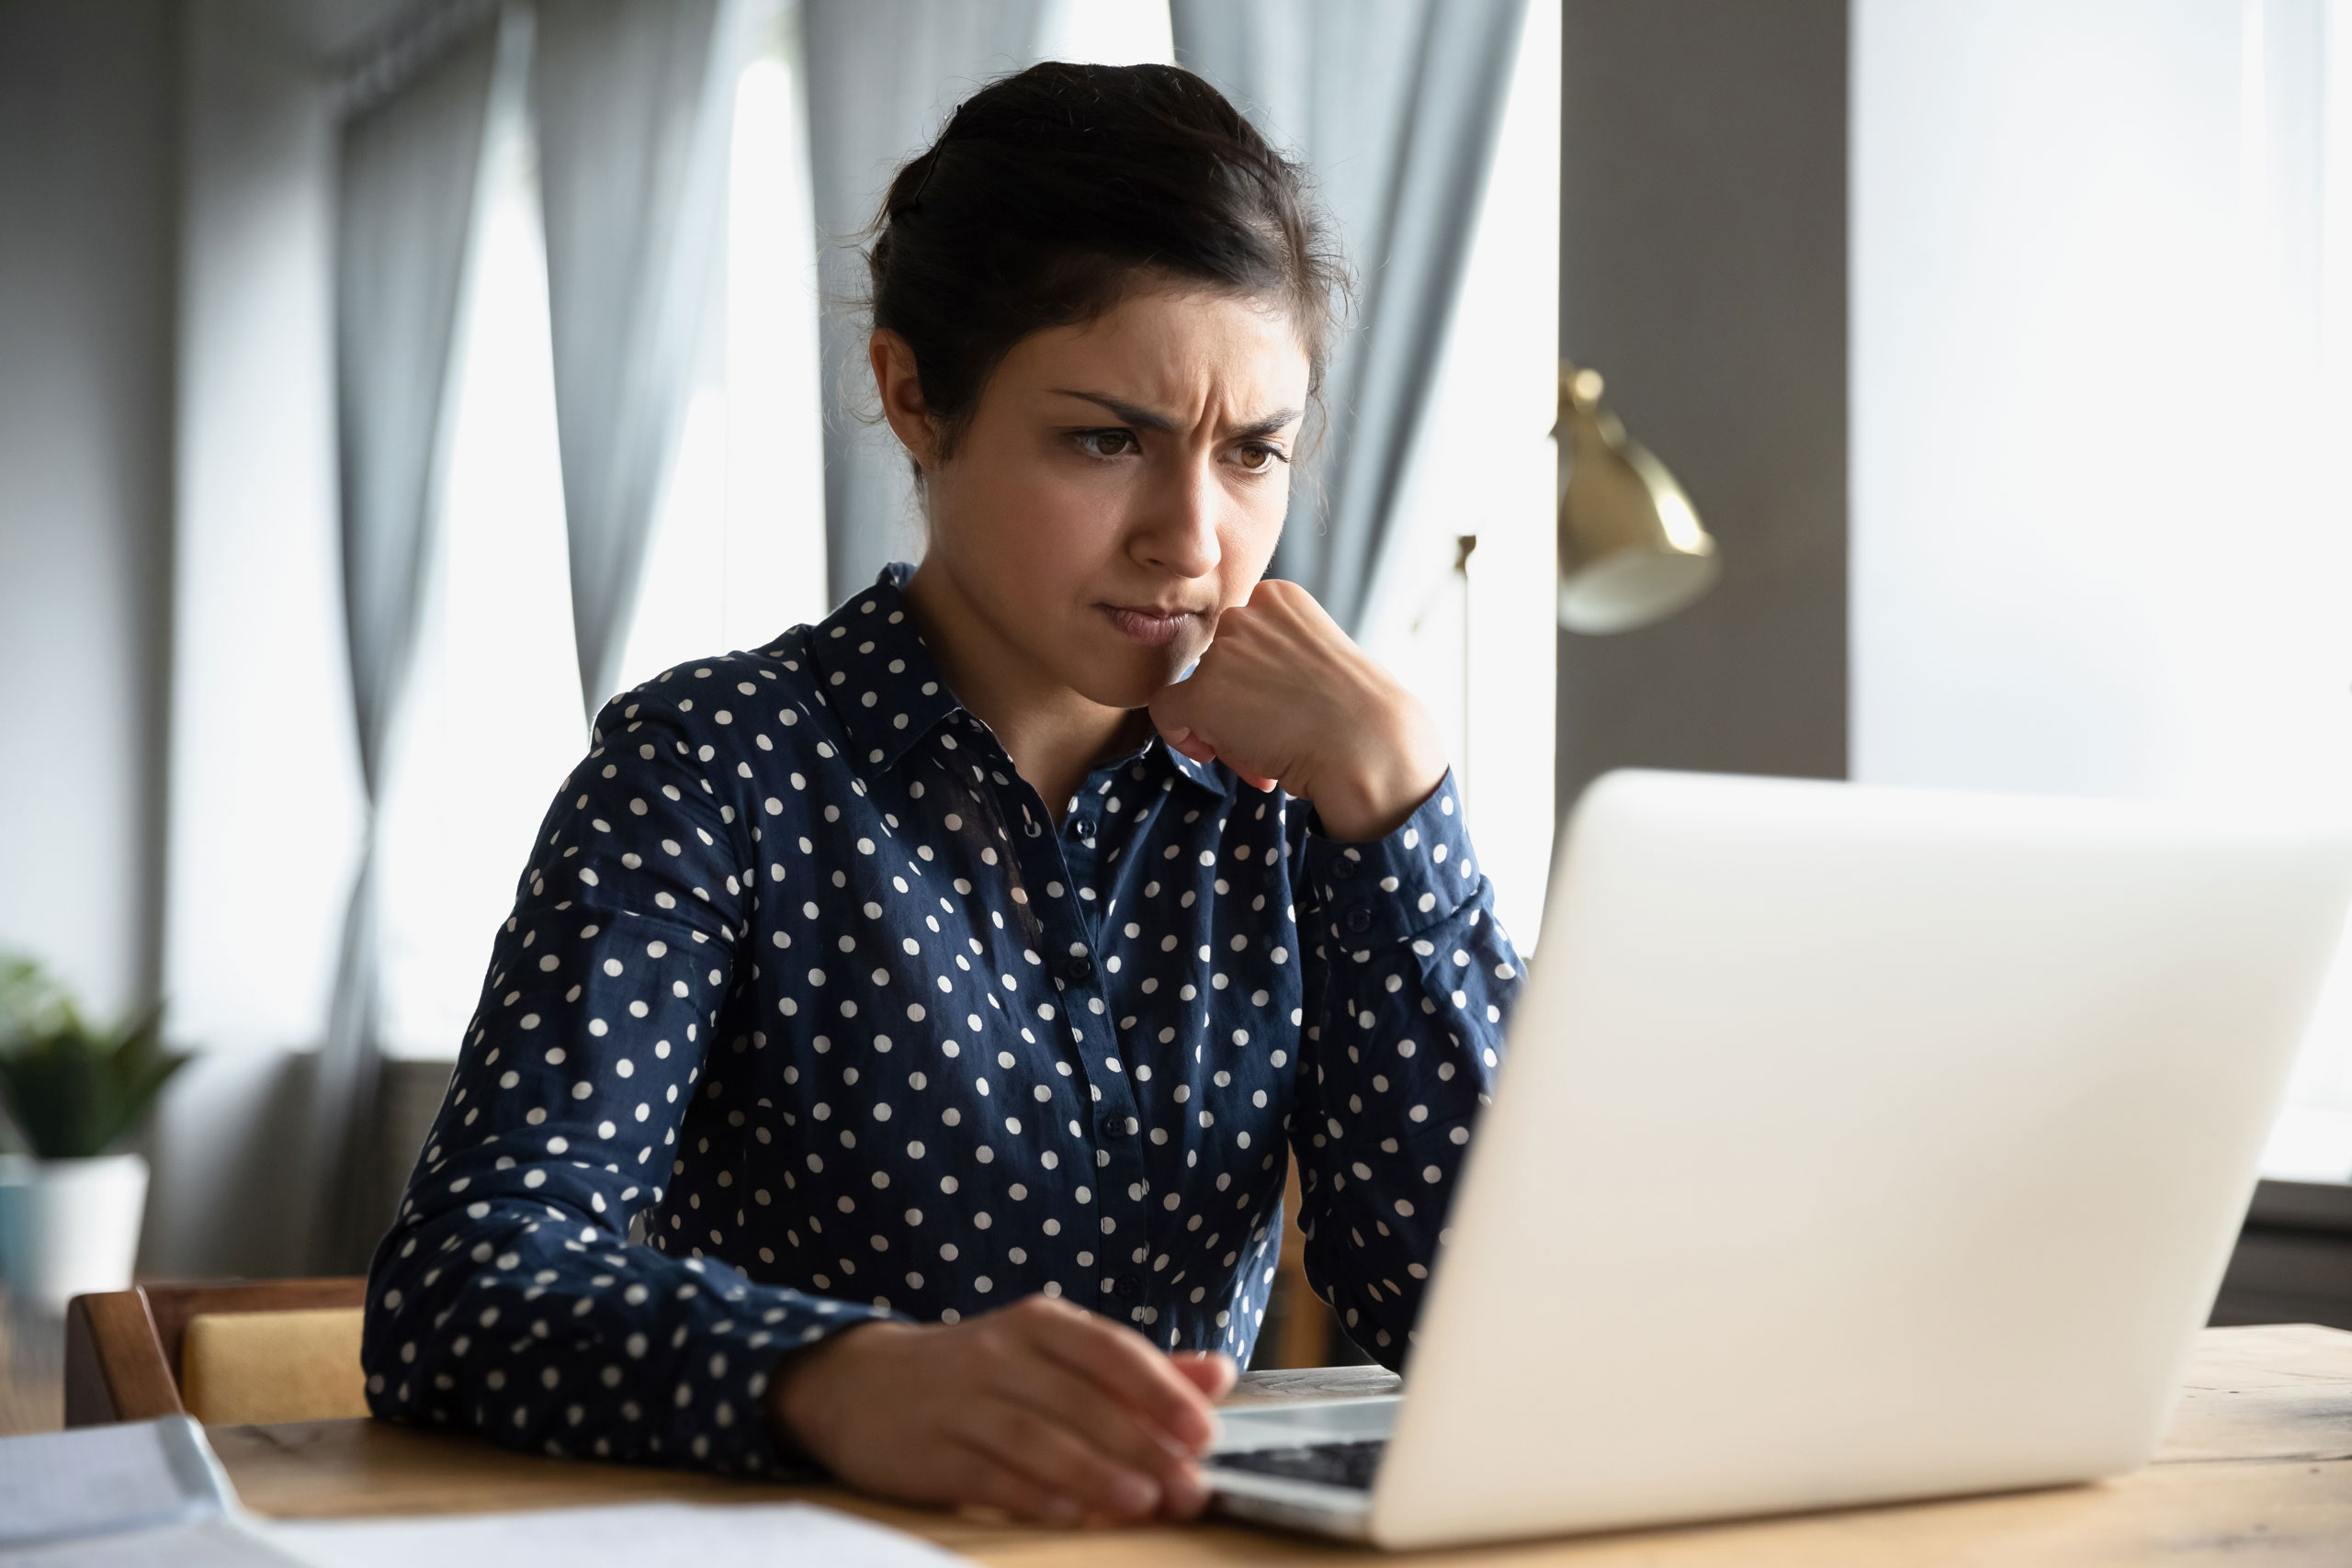person: (445, 57, 1557, 1506)
